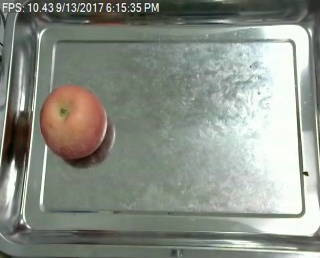Apple: (39, 85, 107, 158)
